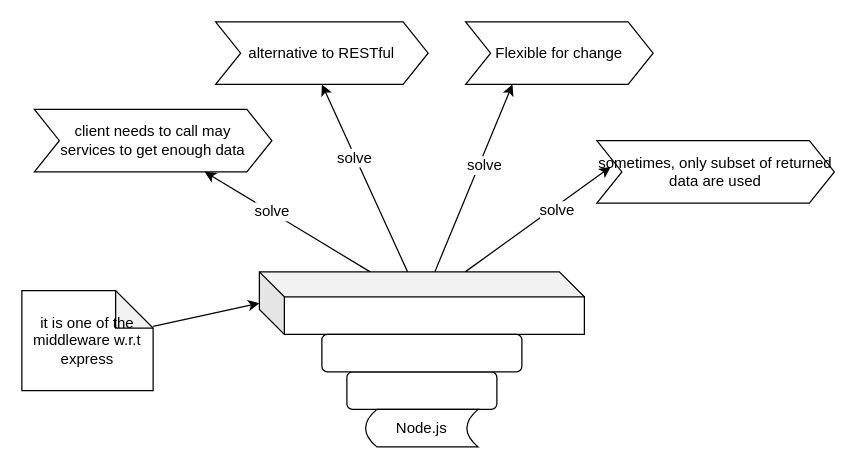
This 856x469 diagram has some shape labels left out. The centre of each missing label's shape, as x and y in pixels:
Express: (421,390)
Express-GraphQL: (421,352)
GraphQL: (421,302)
